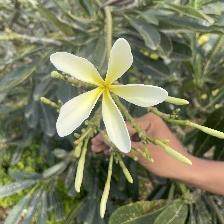champaka: (49, 38, 173, 153)
